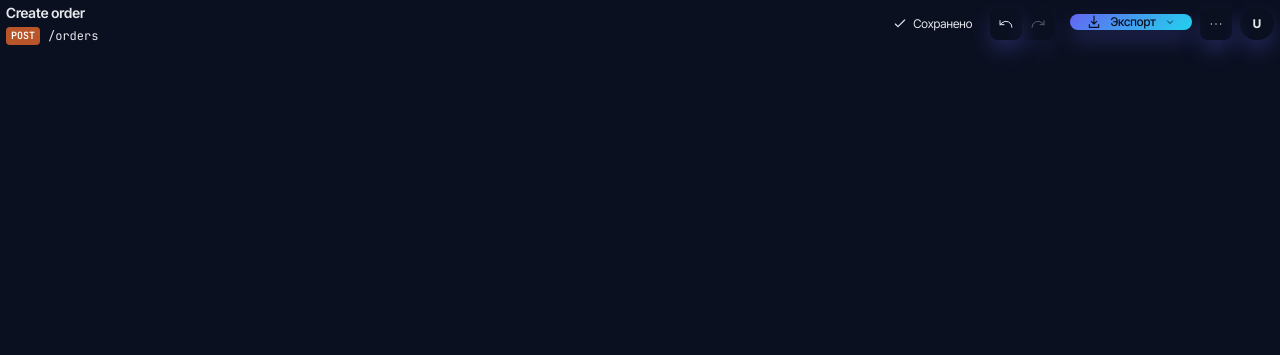
it: WorkbenchTopbar › navigates export with the keyboard, restores focus and opens only one menu
Click the button "Экспорт" at (1131, 22), box [1070,14,1192,30]
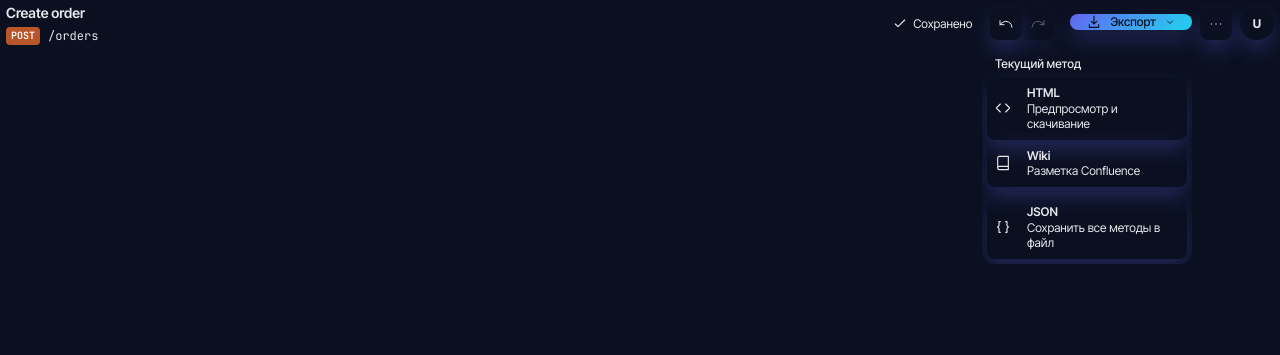
Press Arrowdown
Press End
Press Escape
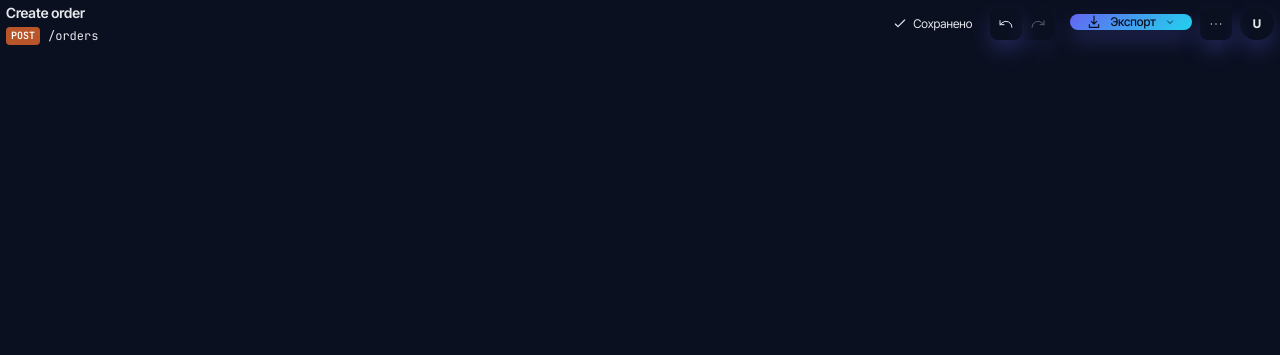
Click the button "Экспорт" at (1131, 22), box [1070,14,1192,30]
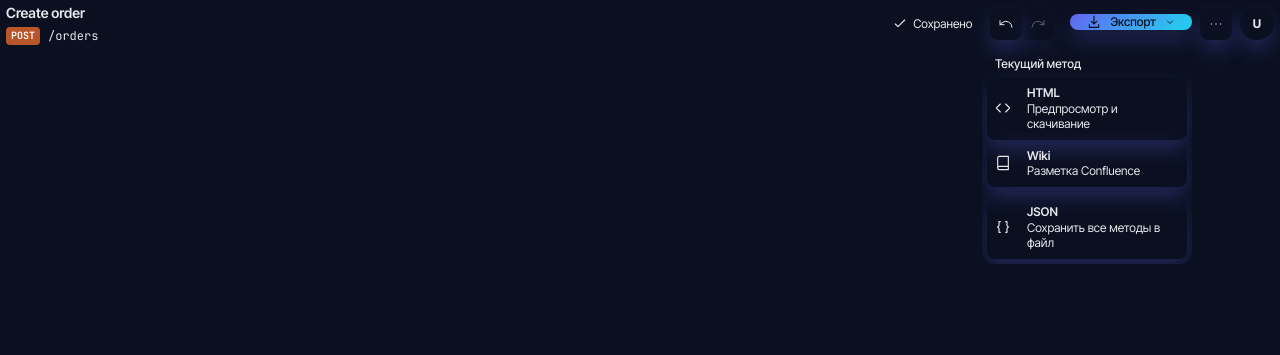
Click the button named "Дополнительные действия" at (1216, 24), box [1200,8,1232,40]
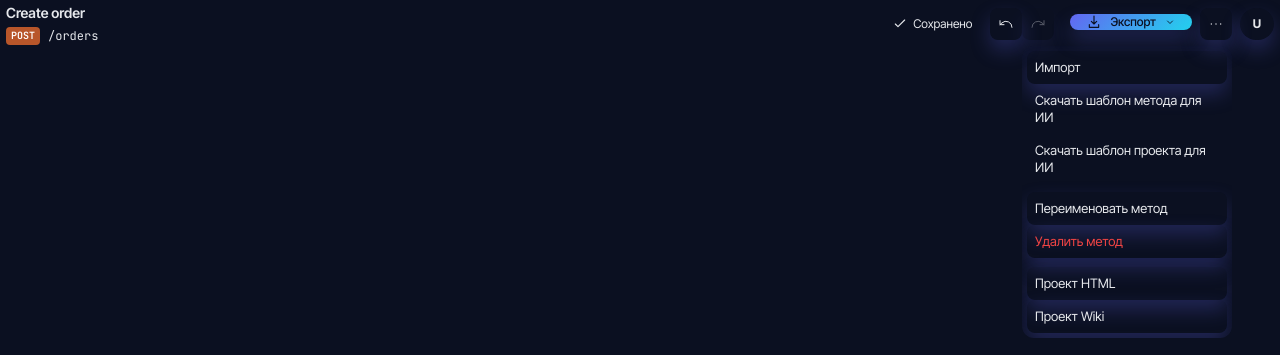
Expected: the menu named "Дополнительные действия" is shown, [1022,46,1232,338]
